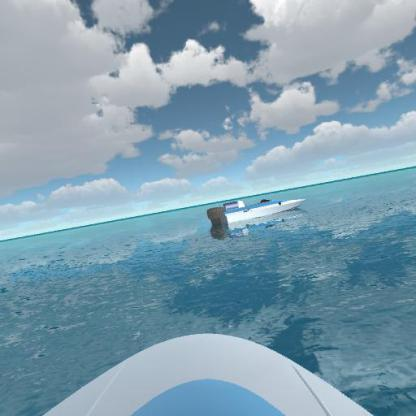usv1: (203, 193, 307, 230)
